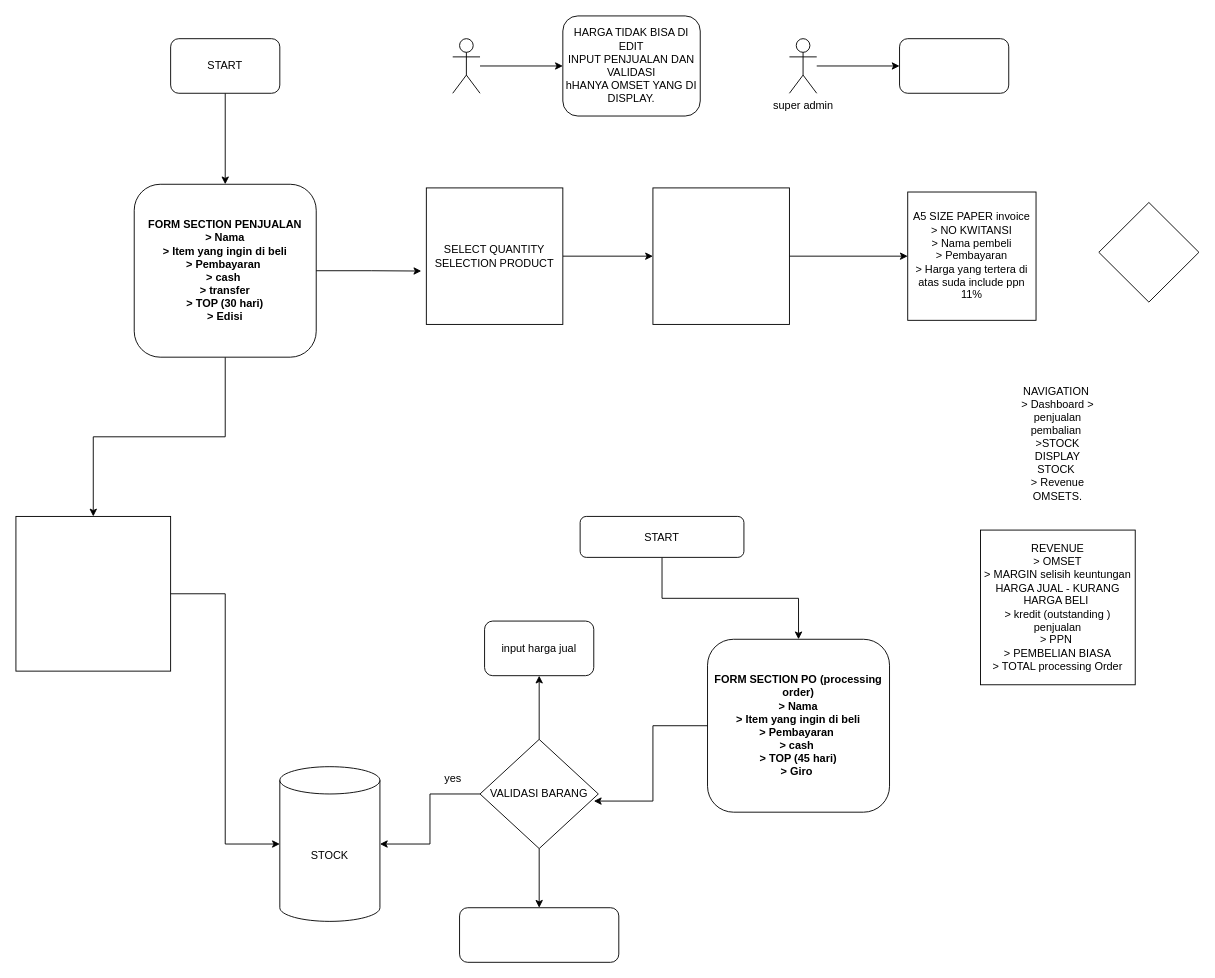
Some shapes in this 1215 by 978 pixel diagram are drawn without their labels. The box of each missing label's shape, as (x1, y1, x2, y2) in pixels:
Admin: (452, 38, 480, 93)
ALL ACCESS.: (899, 38, 1009, 93)
CHECKBOX INCLUDE PPN: (1098, 202, 1199, 302)
NOTES JIKA TIDAK SESUAI: (459, 907, 619, 962)
PENGURANGAN STOCK GUDANG SESUAI PESANAN: (15, 516, 171, 671)
SELECT PAYMENT: (652, 187, 789, 324)
